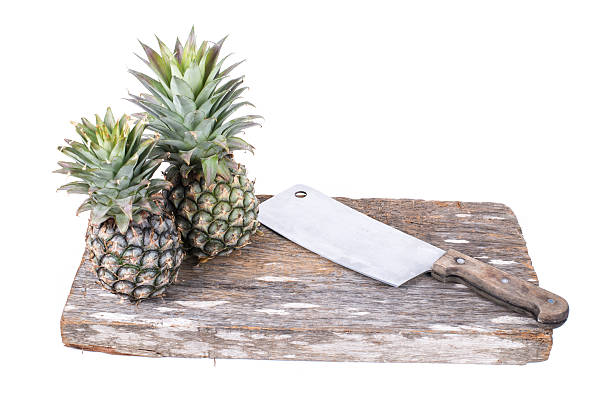knife: (251, 182, 571, 330)
